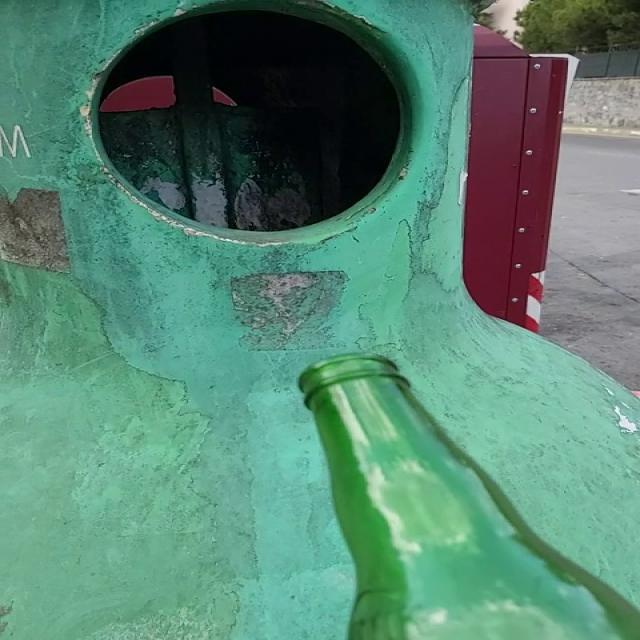Glass: (300, 355, 640, 640)
